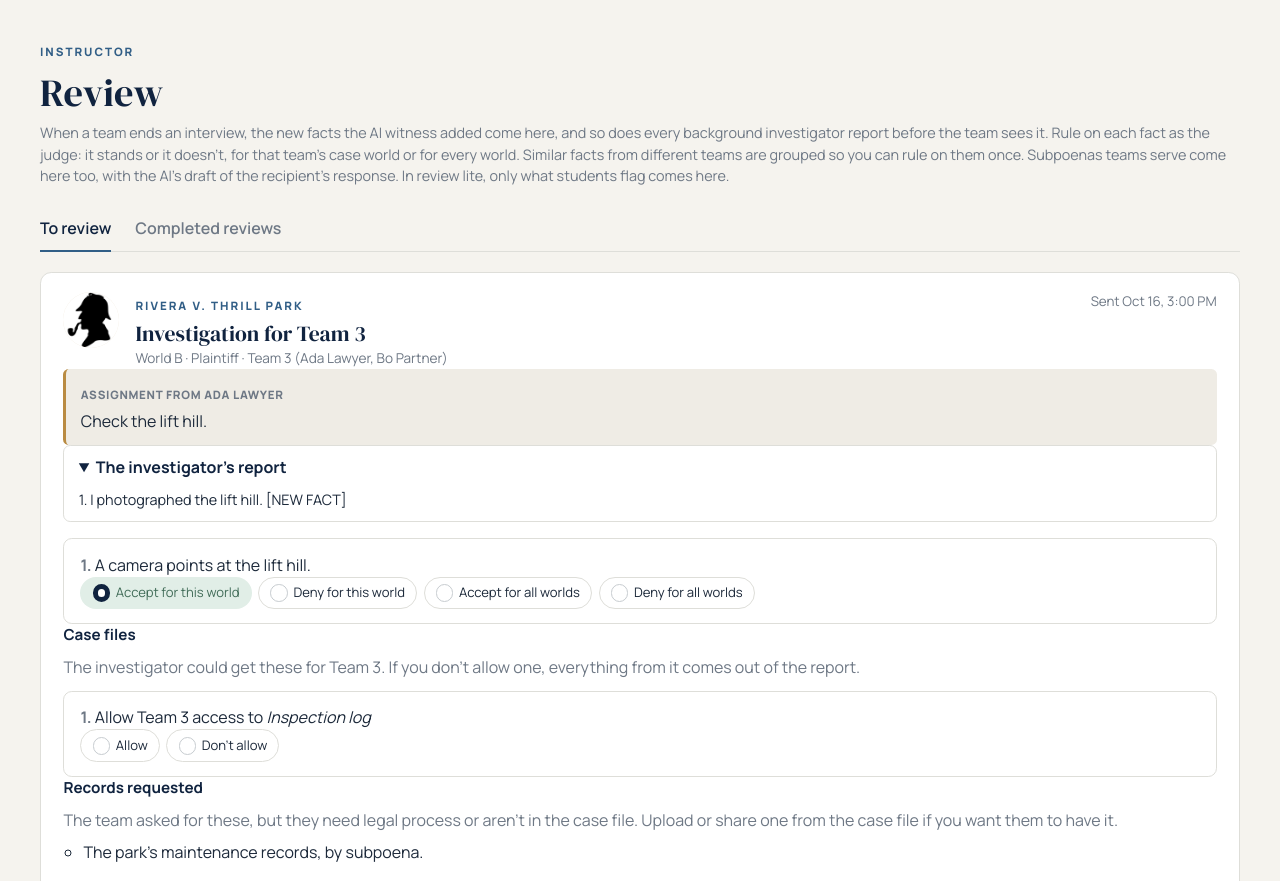
Scenario: ReviewPage › shows an investigator report with its assignment, and lets the instructor allow or refuse each file
Expected: the element "Investigation for Team 3" shows "Check the lift hill.", [81, 410, 207, 432]
Expected: the element "Investigation for Team 3" shows "1. I photographed the lift hill.", [79, 490, 347, 509]
What coordinates should you click on to do the following:
click the radio button labelled "Don't allow"
I would click on:
 (187, 746)
Its box is [178, 737, 196, 755].
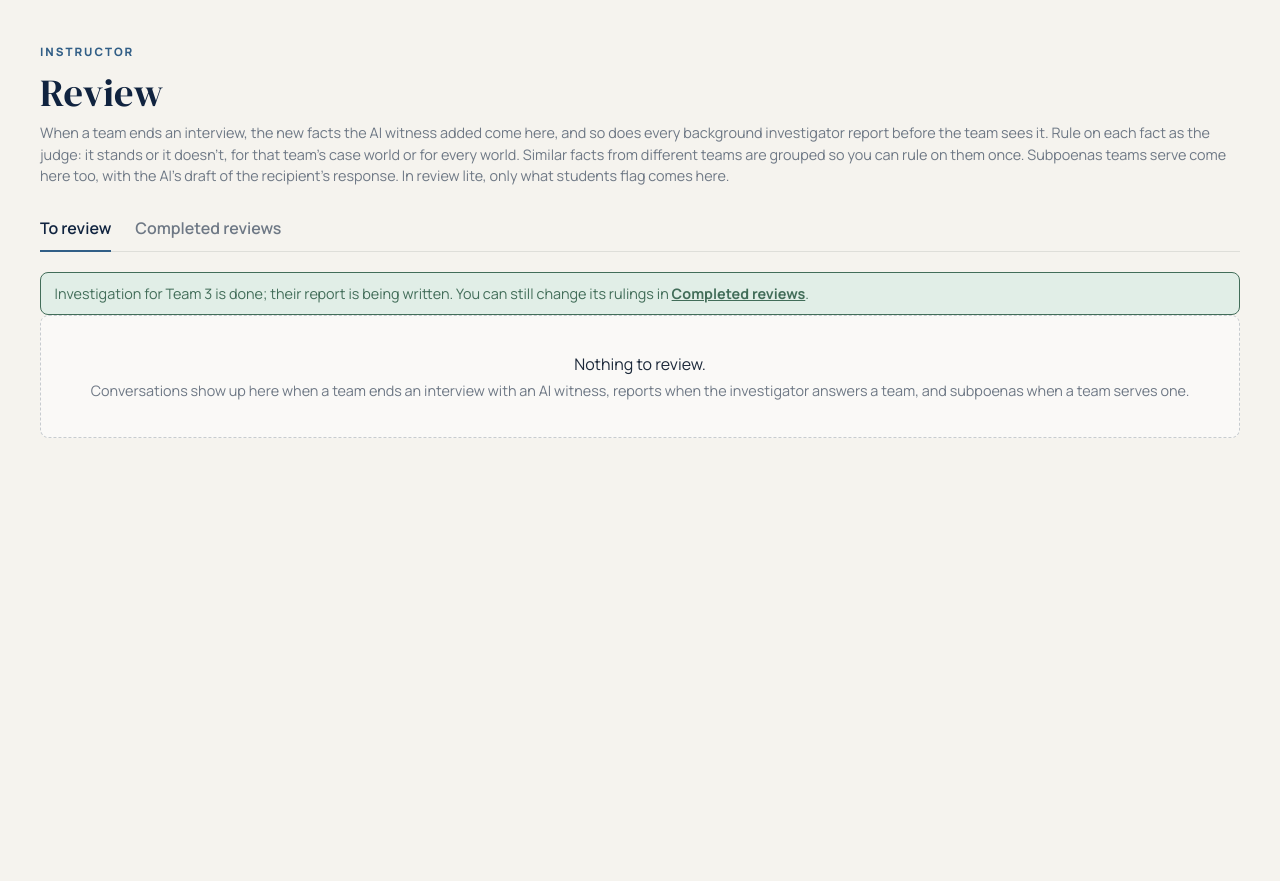
Now the message shows "Investigation for Team 3 is done; their report is being written.", box [55, 284, 453, 303]
